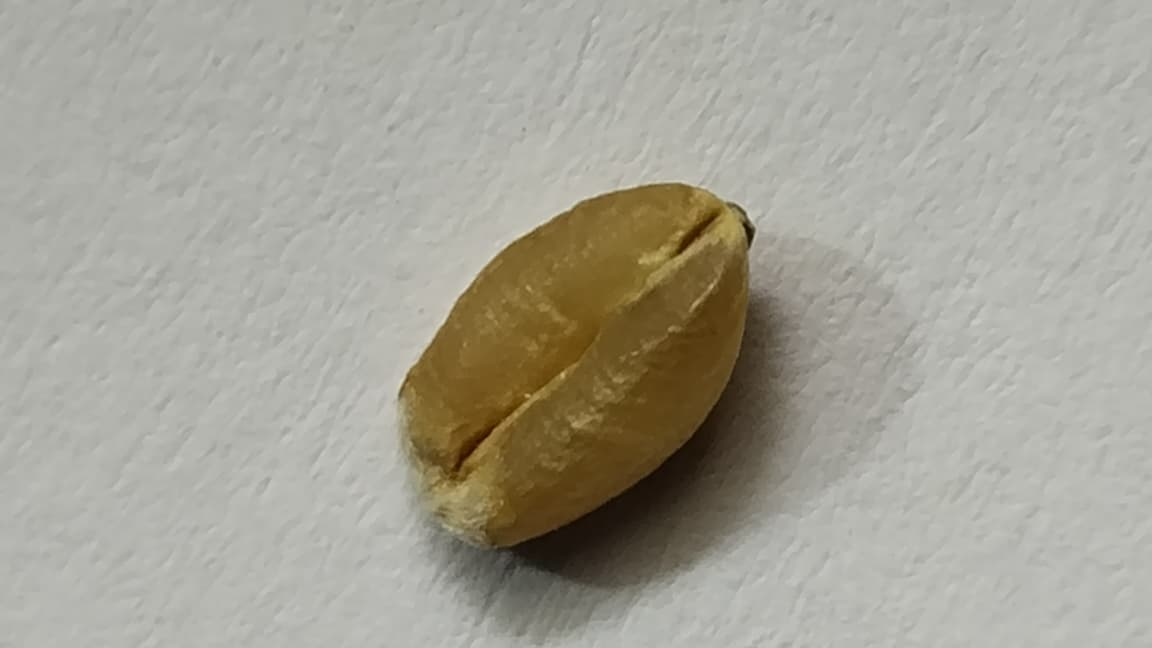healthy: (398, 183, 752, 545)
